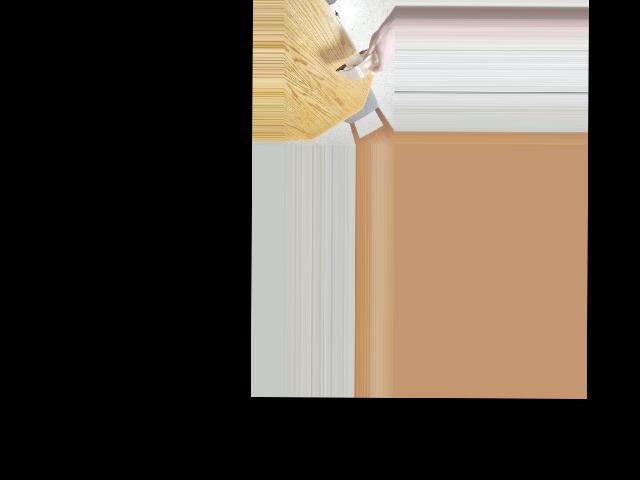cheese: (339, 33, 383, 86)
